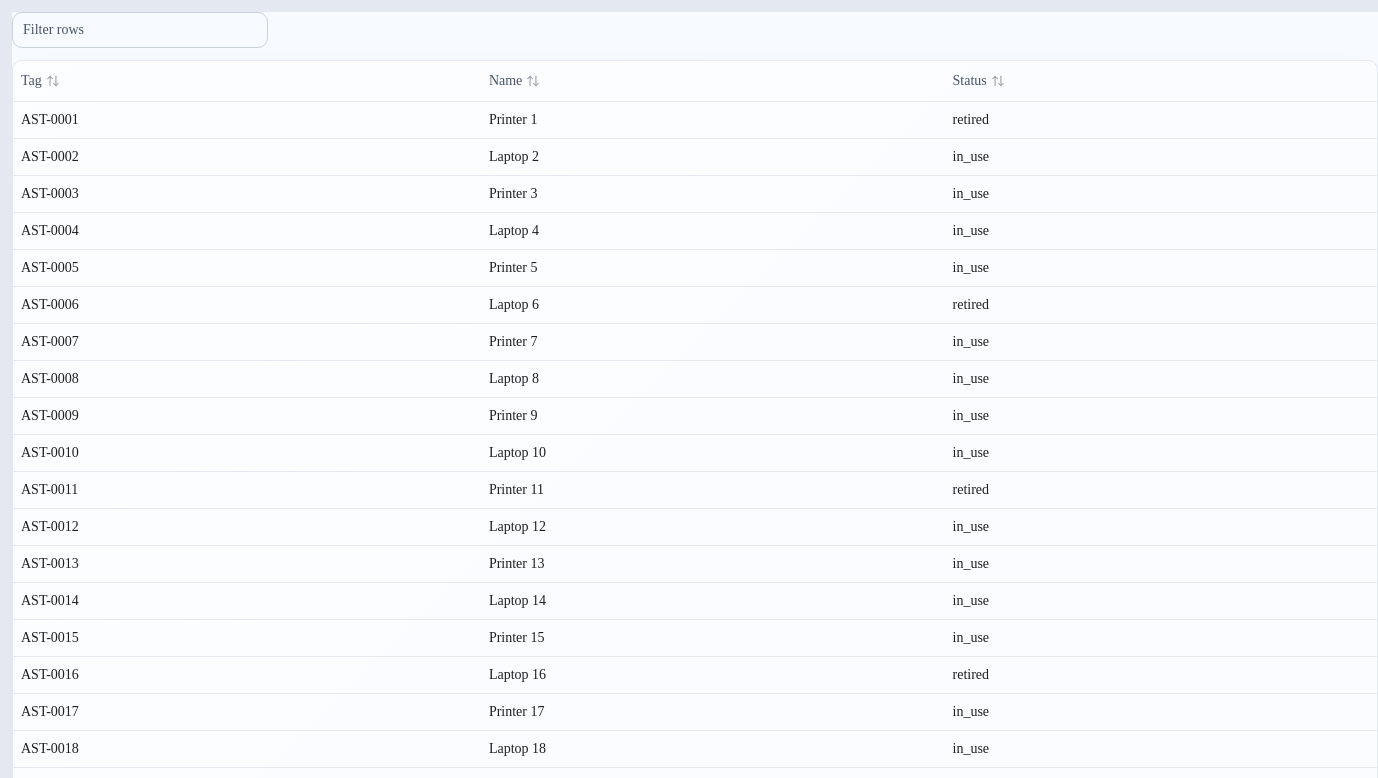
Test: DataTable › sorts when a header is pressed
Click the button "Tag".
click(40, 81)  # box [17, 71, 64, 91]
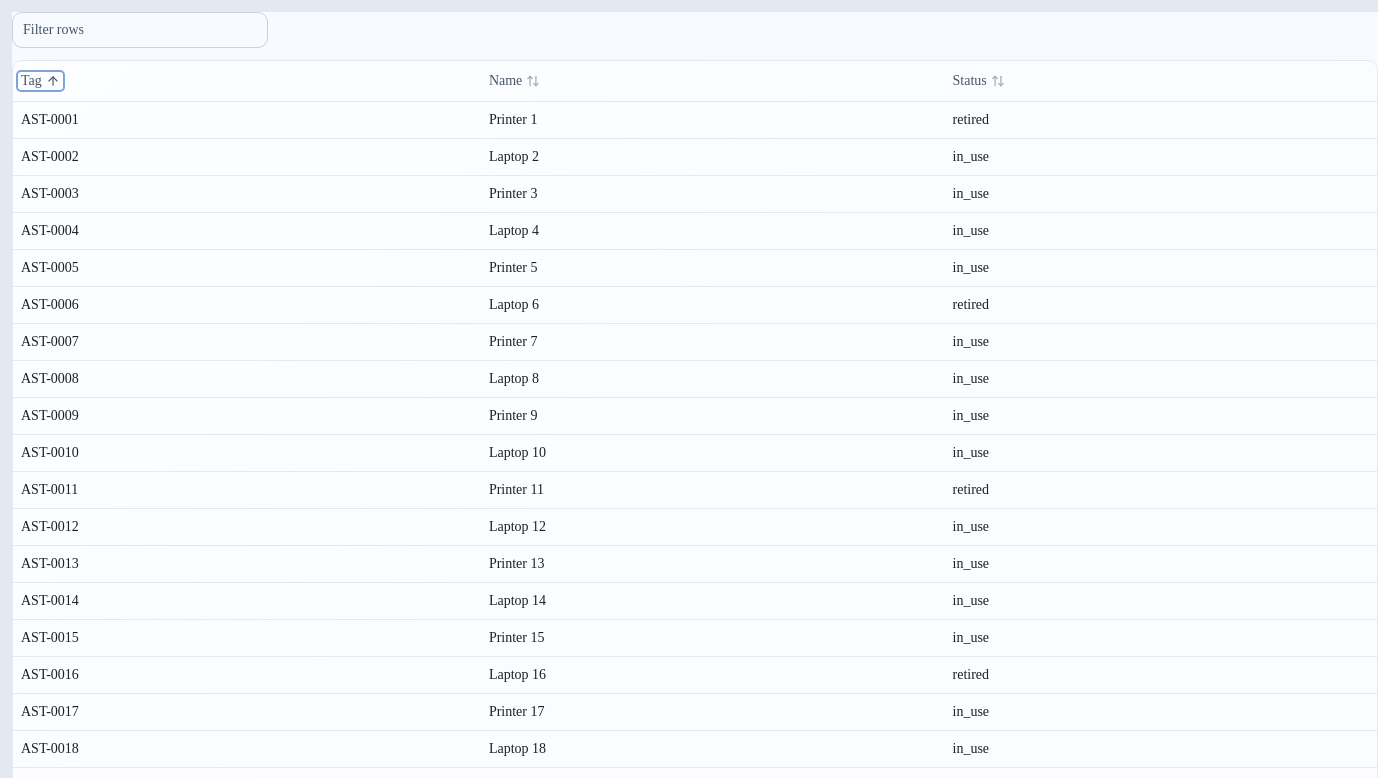
Click the button "Tag".
click(40, 81)  # box [17, 71, 64, 91]
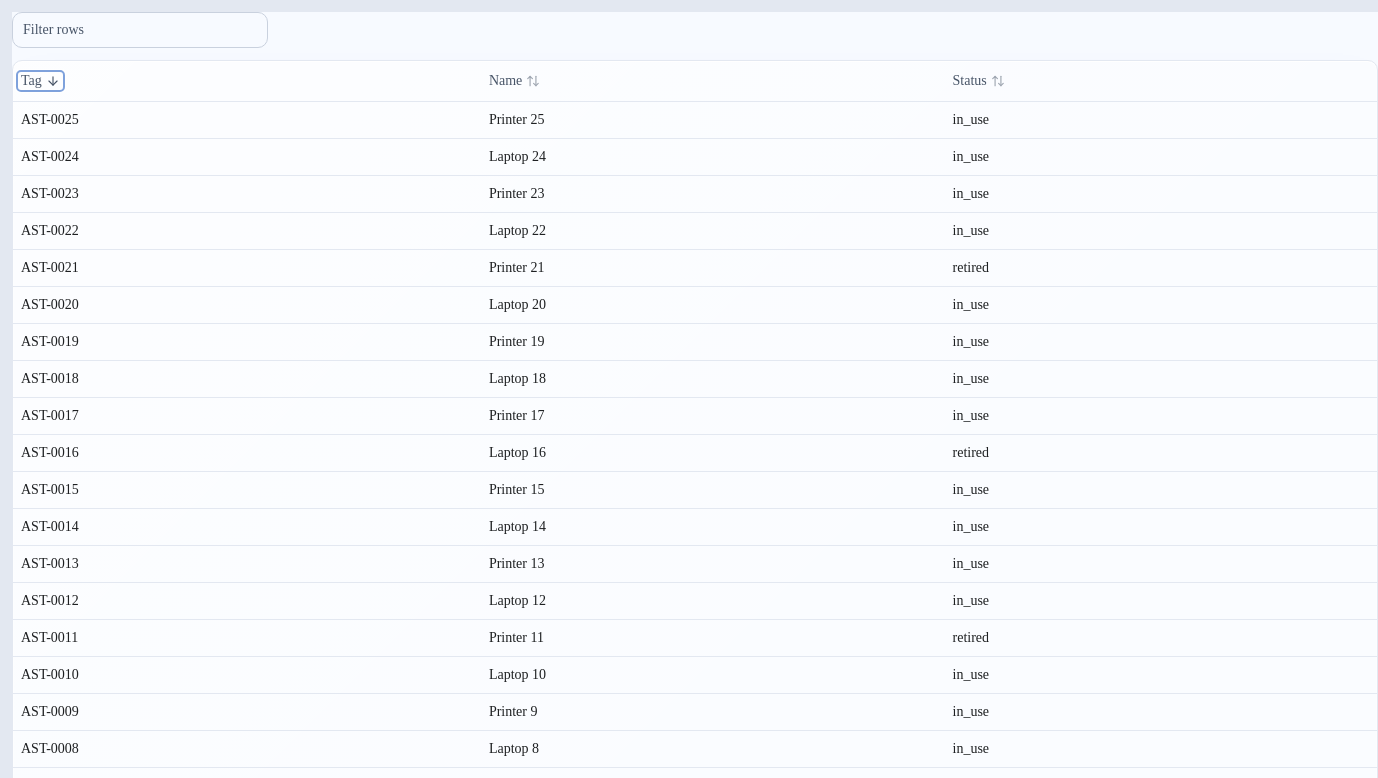
Expected: the cell "AST-0025" is shown, [13, 101, 481, 138]
